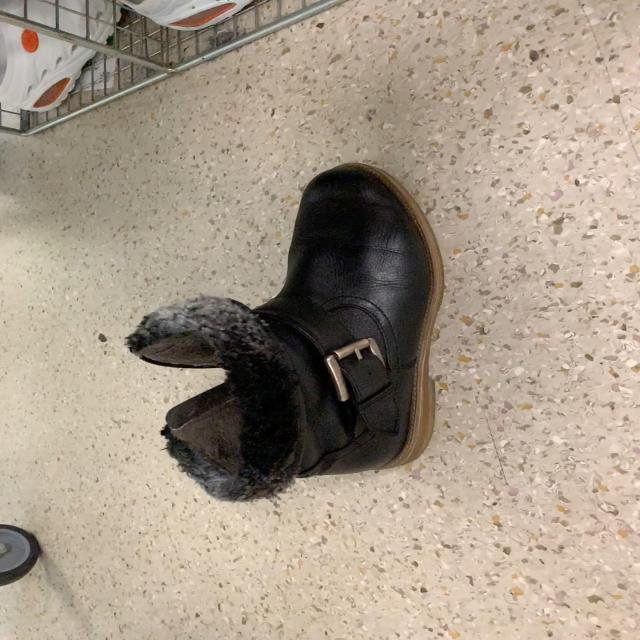shoe: (261, 162, 448, 481)
